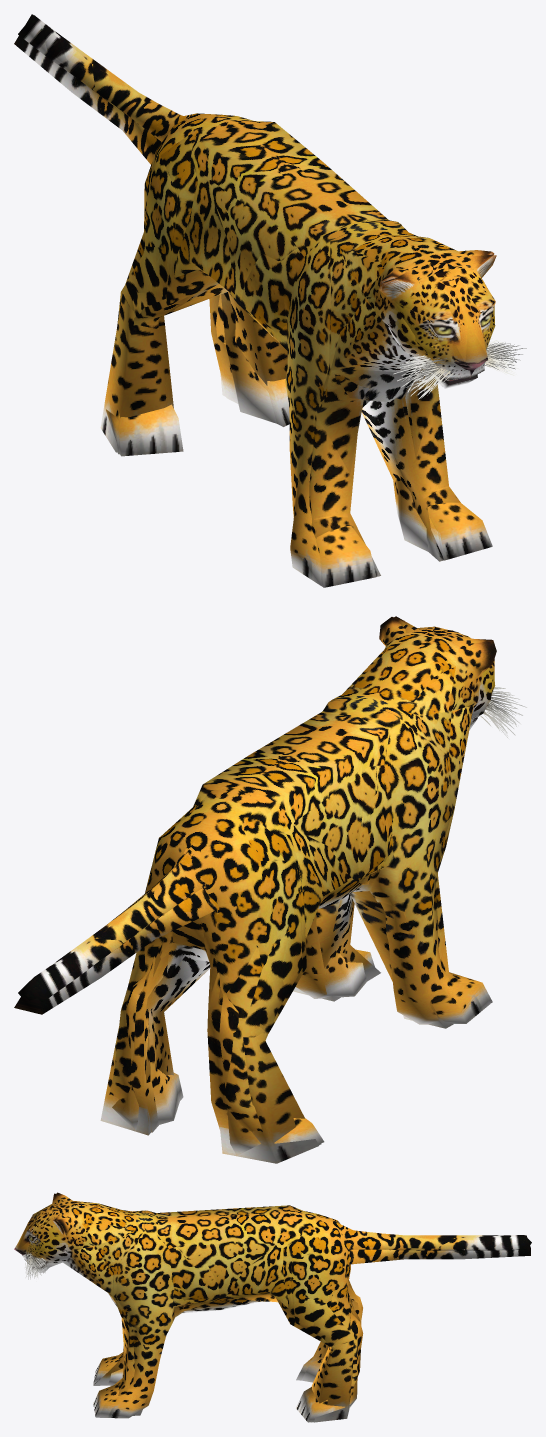
Rendered from JaguarAdult.obj.
3 views of the same model, one above another, from view 1: azimuth 30°, elevation 25°; view 2: azimuth 150°, elevation 25°; view 3: azimuth 270°, elevation 25° (orthographic). The views are drawn at different scales.
Visible parts, largest first — view 1: JaguarAdult; view 2: JaguarAdult; view 3: JaguarAdult.
Part boxes in pixels (x1,y1,x2,y2): JaguarAdult: (14,14,526,587); JaguarAdult: (14,616,526,1163); JaguarAdult: (14,1192,531,1422).
Bounding box in the file's own units: 1.04 × 1.61 × 4.01.
Materials: 7 (7 with a texture image).
